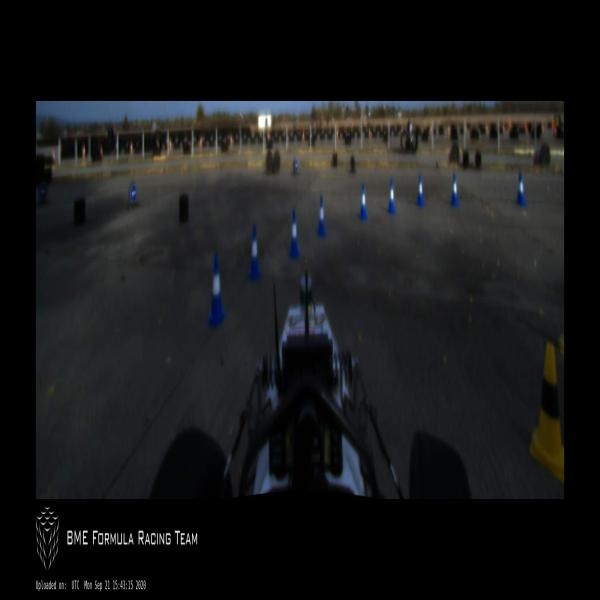blue_cone: (207, 252, 227, 328), (248, 224, 262, 280), (288, 209, 300, 256), (316, 195, 326, 236), (516, 172, 526, 205), (359, 183, 368, 219), (387, 179, 396, 212), (450, 173, 459, 206), (416, 175, 424, 206)
yellow_cone: (529, 342, 564, 483)
